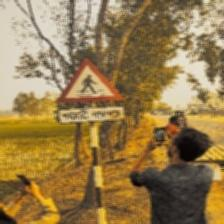Pedestrian-crossing: (56, 58, 126, 128)
